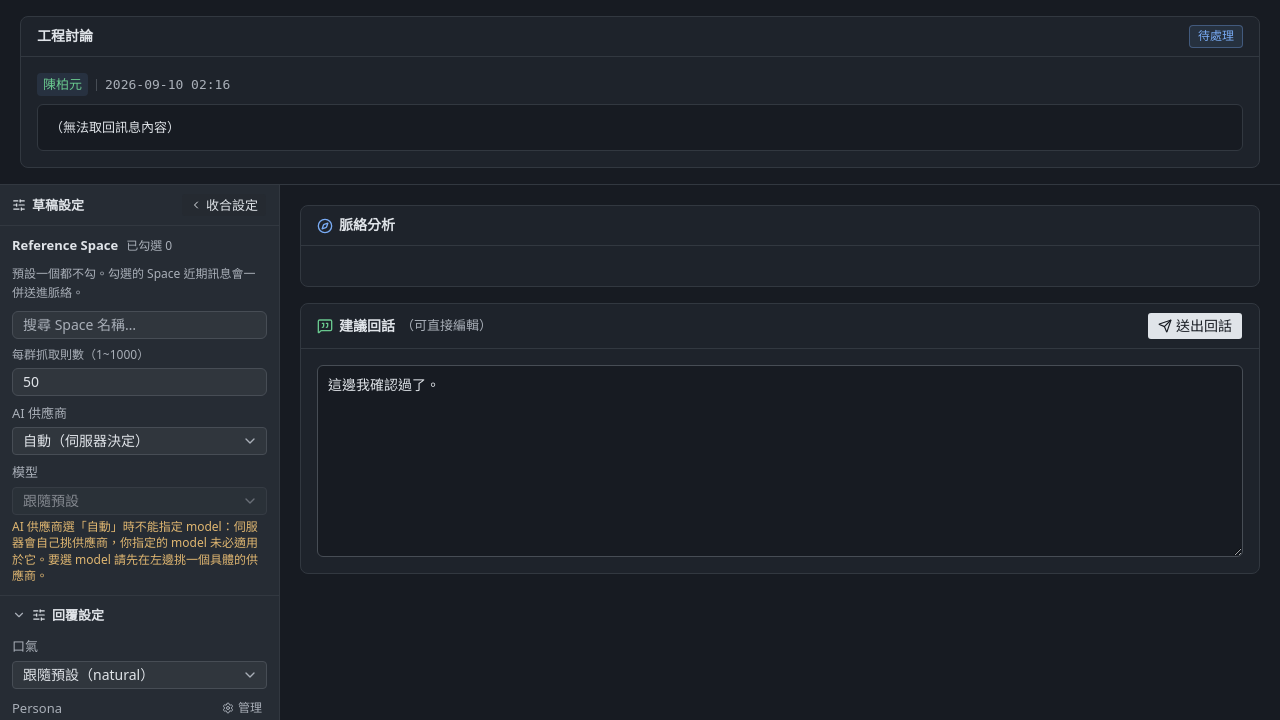
Scenario: 送出確認框 › 只回一則時不列名單，改說「這則會自動變成已處理」
Click the button "送出回話" at coordinates (1195, 326), box top-left (1147, 312), bottom-right (1243, 340)
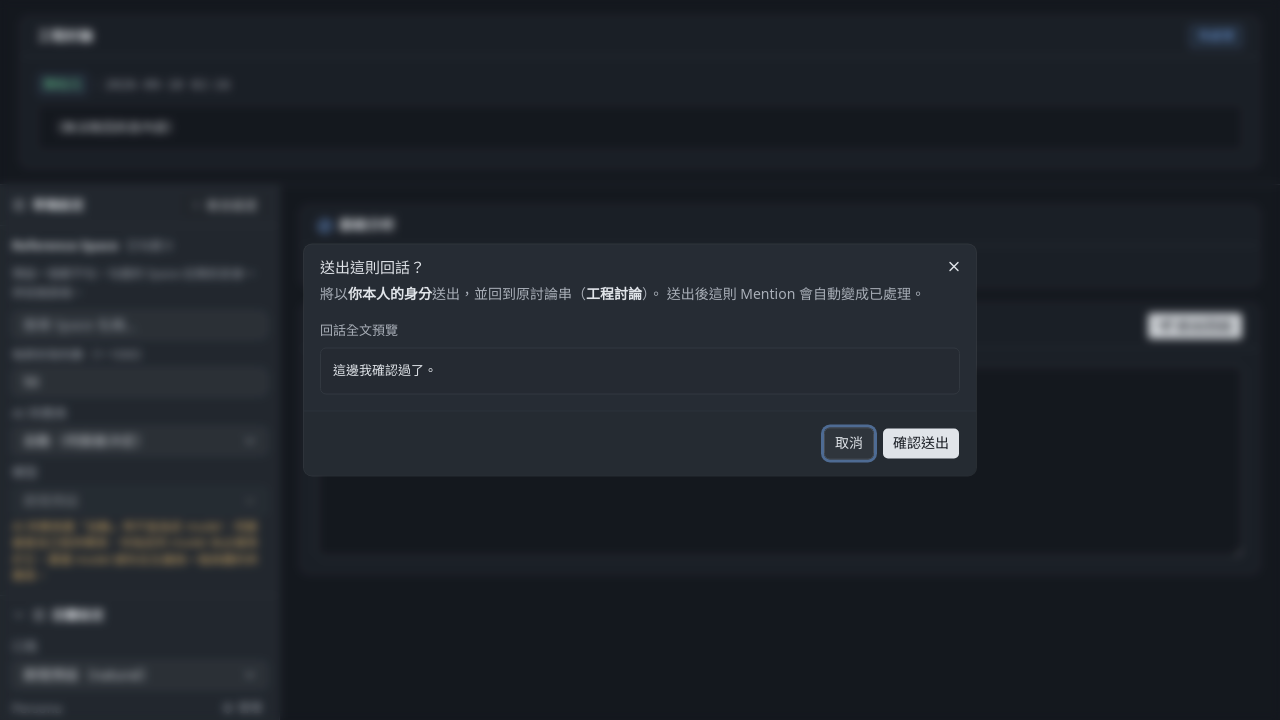
Now the text "送出後這則 Mention 會自動變成已處理" is shown, box top-left (663, 284), bottom-right (925, 304)
